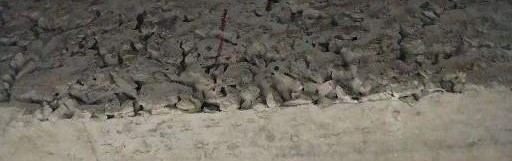Exposed reinforcement: (215, 7, 228, 57)
Spalling: (1, 1, 512, 120)
